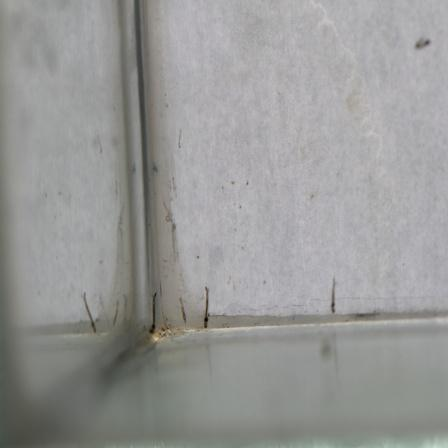Jentik-Nyamuk: (198, 283, 215, 333), (144, 287, 161, 337), (327, 274, 339, 315)
